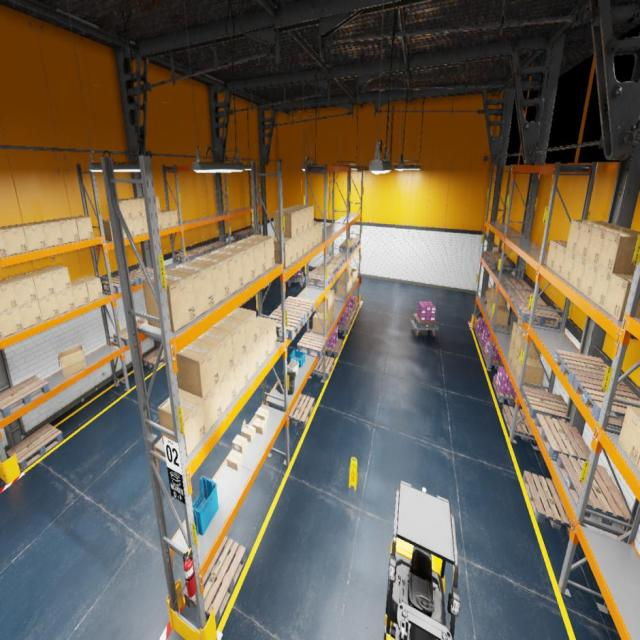box: (142, 270, 196, 332), (158, 388, 206, 456), (167, 262, 214, 318), (176, 340, 219, 398), (586, 226, 640, 266), (188, 255, 230, 305), (196, 326, 234, 381), (575, 223, 627, 260), (598, 231, 640, 275), (205, 248, 244, 295), (604, 273, 640, 321), (212, 317, 246, 364), (566, 220, 614, 253), (220, 244, 255, 286), (226, 307, 257, 351), (618, 406, 640, 466), (233, 239, 265, 278), (3, 274, 37, 306), (244, 235, 274, 271), (515, 355, 545, 389), (203, 381, 222, 433), (23, 269, 55, 299), (590, 266, 612, 308), (14, 223, 47, 251), (58, 345, 86, 377), (41, 265, 71, 293), (0, 226, 28, 256), (514, 328, 540, 360), (34, 220, 64, 247), (257, 316, 277, 355), (220, 366, 236, 414), (580, 260, 598, 300), (52, 217, 79, 243), (18, 300, 42, 329), (0, 306, 23, 336), (77, 276, 103, 302), (274, 210, 298, 238), (546, 240, 567, 270), (67, 216, 93, 240), (234, 352, 248, 396), (282, 208, 304, 235), (37, 294, 59, 321), (0, 279, 18, 312), (274, 237, 292, 268), (570, 254, 585, 291), (71, 280, 90, 308), (288, 206, 308, 232), (246, 340, 259, 380), (55, 288, 75, 314), (561, 249, 575, 283), (294, 204, 313, 229), (102, 220, 124, 240), (490, 306, 509, 328), (510, 322, 526, 347), (258, 328, 268, 368), (554, 244, 566, 276), (490, 286, 507, 307), (313, 312, 328, 335), (124, 198, 142, 217), (141, 196, 161, 213), (241, 418, 255, 442), (316, 293, 331, 314), (488, 301, 505, 319), (227, 451, 243, 470), (161, 210, 178, 227), (232, 434, 247, 453), (119, 199, 132, 219), (133, 197, 146, 216), (252, 418, 267, 434), (132, 217, 144, 236), (336, 280, 349, 297), (123, 218, 134, 238), (0, 229, 7, 257), (314, 221, 322, 244), (255, 407, 269, 420), (339, 266, 351, 281), (511, 348, 518, 373), (292, 235, 298, 262), (161, 211, 170, 229), (298, 232, 304, 258), (508, 341, 514, 365), (340, 280, 350, 293), (484, 288, 492, 304), (350, 268, 358, 284), (304, 229, 309, 254), (328, 290, 334, 309), (309, 228, 314, 250), (142, 216, 148, 233), (157, 213, 163, 230), (314, 224, 318, 246), (486, 297, 490, 314), (328, 310, 331, 329), (637, 457, 640, 472), (0, 325, 3, 338), (332, 306, 334, 323), (351, 276, 352, 290)
forklift: (384, 480, 460, 639)
pallets: (557, 453, 631, 530), (184, 536, 246, 626), (572, 375, 640, 427), (523, 471, 571, 533), (534, 414, 590, 466), (6, 423, 63, 471), (554, 349, 626, 386), (0, 375, 50, 418), (521, 386, 570, 421), (502, 404, 537, 444), (514, 300, 562, 329), (268, 309, 304, 341), (284, 394, 314, 428), (278, 297, 315, 323), (492, 376, 522, 408), (297, 332, 327, 358), (508, 288, 547, 307), (113, 321, 142, 346), (102, 276, 140, 293), (311, 355, 335, 379), (504, 278, 534, 297), (305, 270, 334, 288), (142, 347, 164, 369), (482, 348, 504, 369), (322, 338, 343, 358), (487, 256, 513, 272), (130, 267, 154, 284), (175, 250, 200, 263), (412, 315, 437, 328), (315, 263, 339, 276), (482, 251, 506, 262), (327, 255, 344, 270), (337, 318, 352, 334), (189, 246, 213, 256), (339, 241, 357, 253), (206, 242, 226, 250), (345, 237, 360, 247), (233, 231, 251, 239), (243, 228, 260, 235), (348, 310, 356, 324), (289, 272, 303, 280), (475, 325, 482, 340), (352, 302, 359, 315), (478, 336, 483, 352), (138, 318, 147, 323), (255, 288, 262, 294), (239, 301, 246, 306), (247, 295, 254, 300)
